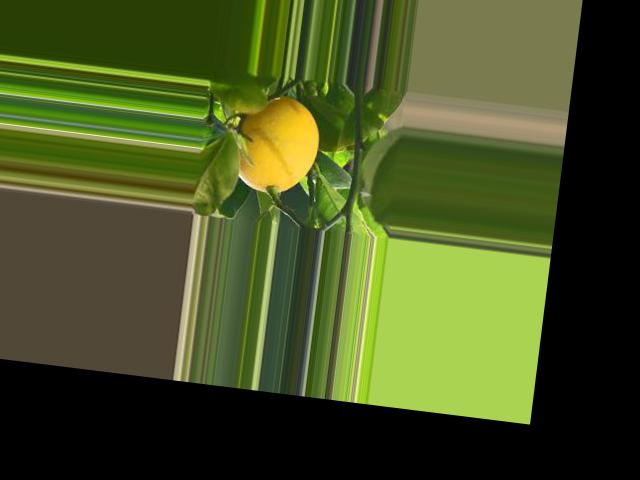lemon: (221, 87, 331, 203)
